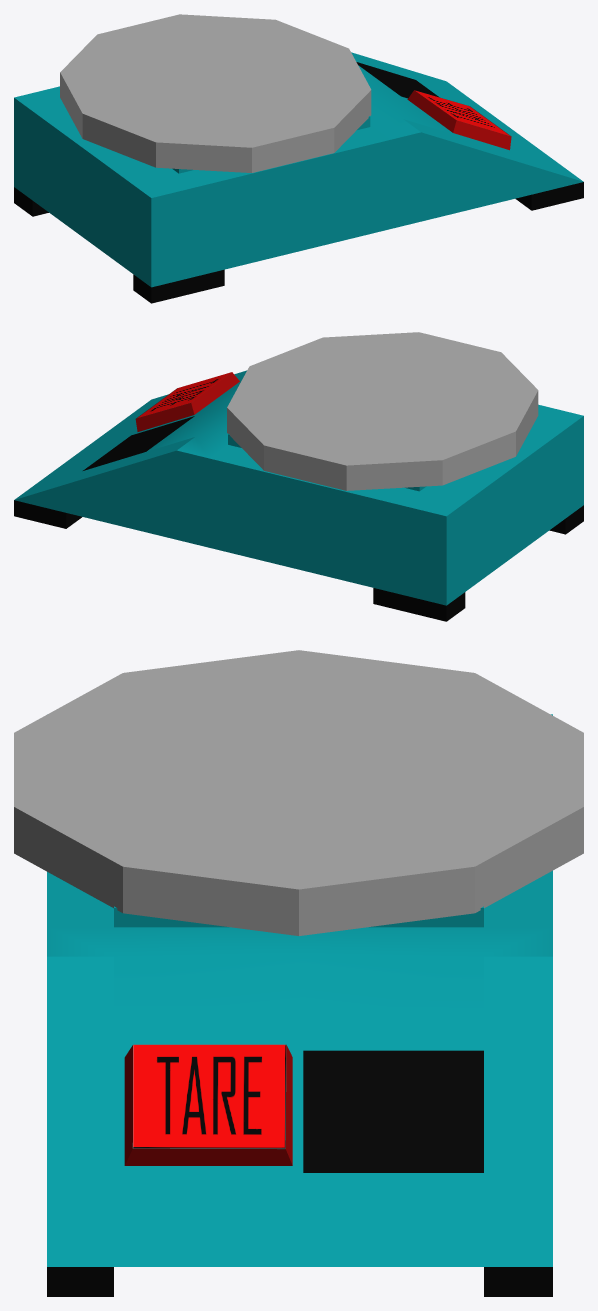
The model's file is Scale.fbx.
3 views of the same model, one above another, from view 1: azimuth 30°, elevation 25°; view 2: azimuth 150°, elevation 25°; view 3: azimuth 270°, elevation 25° (orthographic). The views are drawn at different scales.
Visible parts, largest first — view 1: pCylinder3; view 2: pCylinder3; view 3: pCylinder3.
Part boxes in pixels (x1,y1,x2,y2): pCylinder3: (14,14,583,303); pCylinder3: (14,332,583,621); pCylinder3: (14,650,583,1296).
Bounding box in the file's own units: 40.79 × 12.61 × 25.26.
5 materials, 1 textured.
